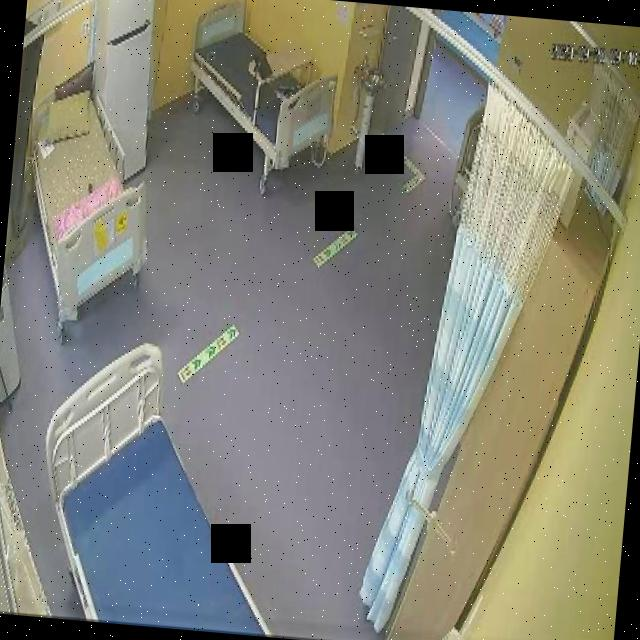bed: (27, 332, 291, 636), (14, 75, 159, 310), (184, 0, 344, 171)
